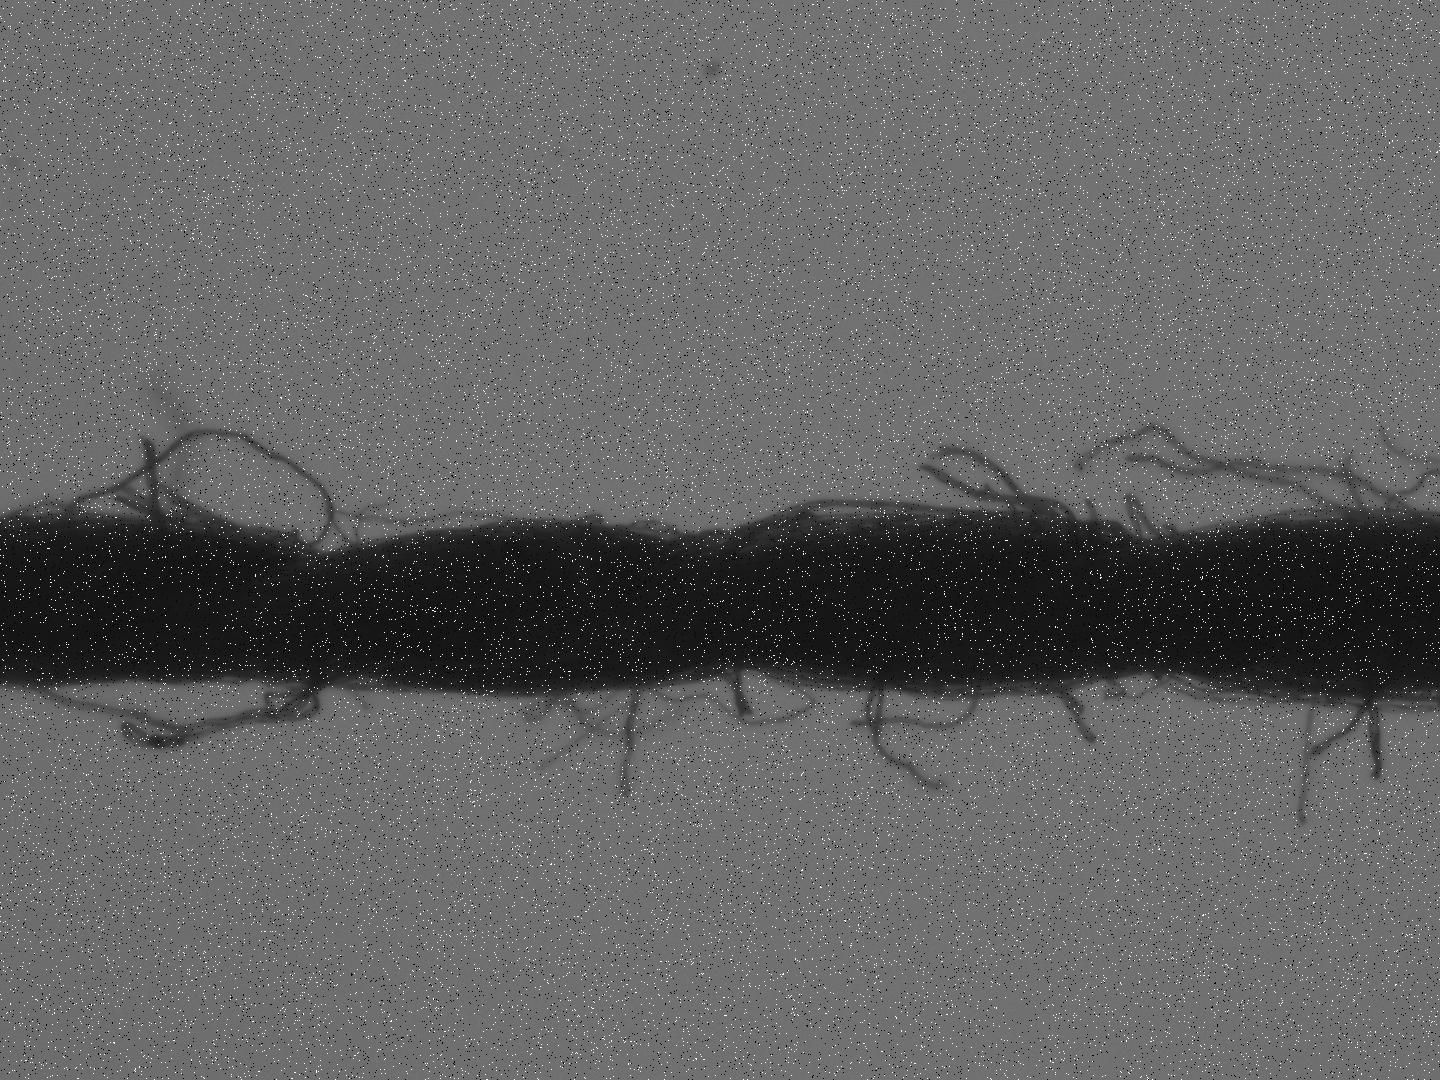loop_fiber: (71, 424, 336, 548), (35, 669, 340, 748), (730, 496, 1036, 554), (605, 514, 689, 548), (1121, 489, 1167, 546), (1102, 672, 1175, 706)
protruding_fiber: (615, 691, 649, 800), (1298, 704, 1320, 826)
